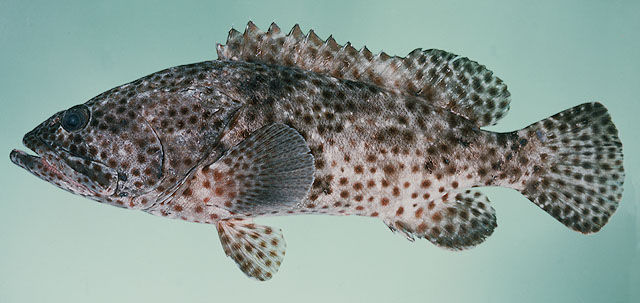fish: (9, 15, 626, 282)
